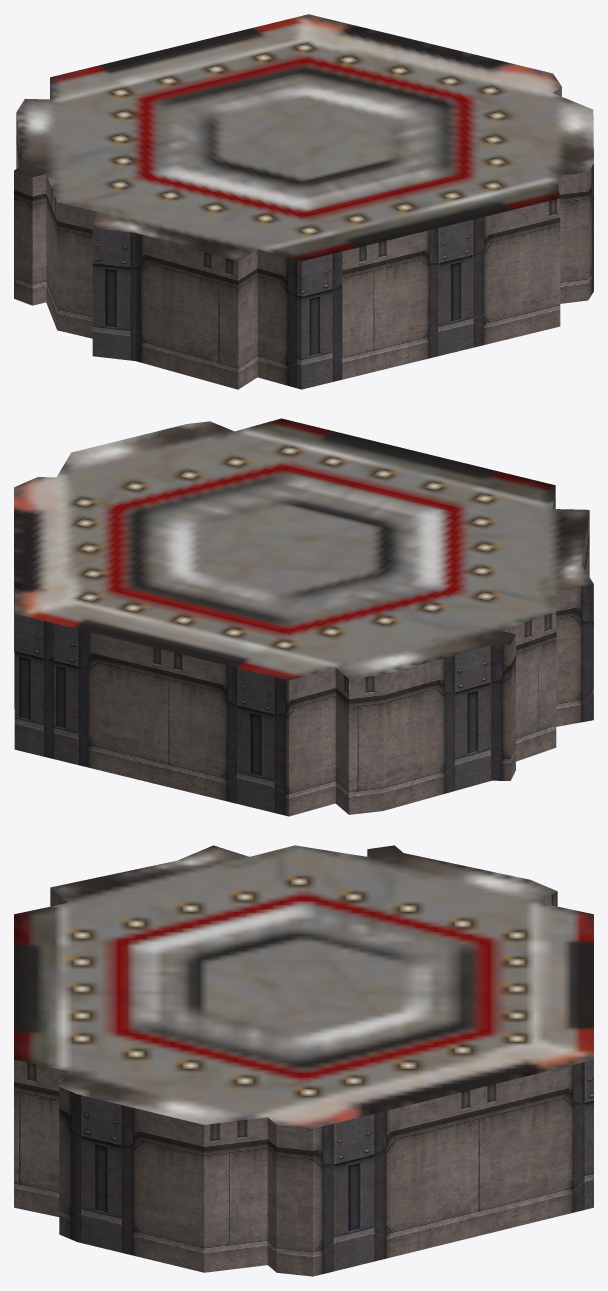
The model's file is bsealed_hard_52.glb.
The picture shows the model from 3 angles, top to bottom: view 1: azimuth 30°, elevation 25°; view 2: azimuth 150°, elevation 25°; view 3: azimuth 270°, elevation 25°; orthographic projection. The views are drawn at different scales.
Parts seen in each view (by area): view 1: buildings/saxarba/bsealed_hard/bsealed_hard_52; view 2: buildings/saxarba/bsealed_hard/bsealed_hard_52; view 3: buildings/saxarba/bsealed_hard/bsealed_hard_52.
Boxes of the visible parts, x1=… form: buildings/saxarba/bsealed_hard/bsealed_hard_52: x1=14, y1=14, x2=593, y2=389; buildings/saxarba/bsealed_hard/bsealed_hard_52: x1=14, y1=418, x2=593, y2=816; buildings/saxarba/bsealed_hard/bsealed_hard_52: x1=14, y1=845, x2=593, y2=1276.
Size of the model in its own units: 74 by 18 by 64.
